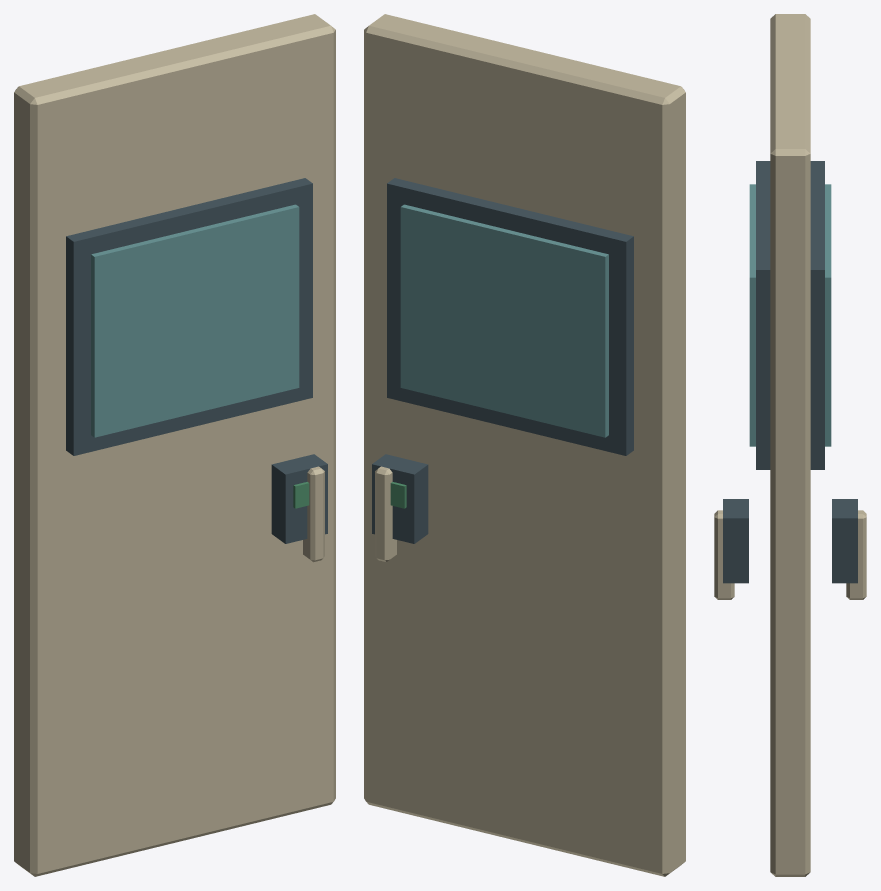
Rendered from door_lab_observation.glb.
3 views of the same model, side by side, from view 1: azimuth 30°, elevation 25°; view 2: azimuth 150°, elevation 25°; view 3: azimuth 270°, elevation 25° (orthographic). The views are drawn at different scales.
Visible parts, largest first — view 1: door_lab_observation; view 2: door_lab_observation; view 3: door_lab_observation.
Part boxes in pixels (left/top/right/bottom): door_lab_observation: left=14, top=14, right=335, bottom=876; door_lab_observation: left=364, top=14, right=685, bottom=876; door_lab_observation: left=714, top=14, right=866, bottom=876.
Size of the model in its own units: 1.15 by 2.8 by 0.53.
